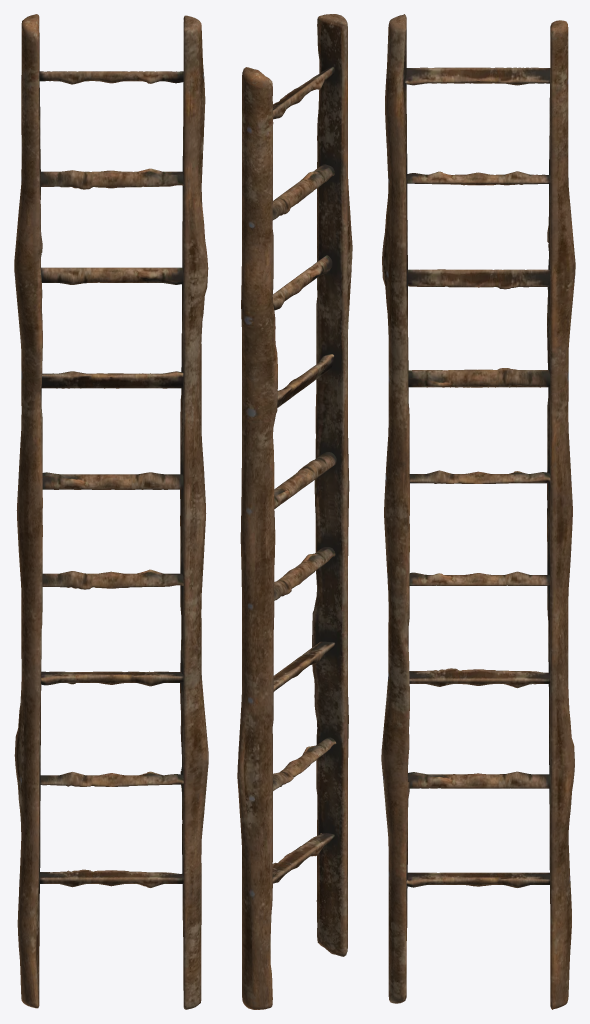
The model's file is escalera.glb.
3 views of the same model, side by side, from view 1: azimuth 90°, elevation 25°; view 2: azimuth 150°, elevation 25°; view 3: azimuth 270°, elevation 25° (orthographic). The views are drawn at different scales.
Parts seen in each view (by area): view 1: Symmetry__0; view 2: Symmetry__0; view 3: Symmetry__0.
Boxes of the visible parts, x1,y1,x2,y2 form: Symmetry__0: (14,14,208,1009); Symmetry__0: (237,14,352,1009); Symmetry__0: (381,14,575,1009).
Bounding box in the file's own units: 0.1413 × 3.92 × 0.7043.
Materials: 1 (1 with a texture image).
